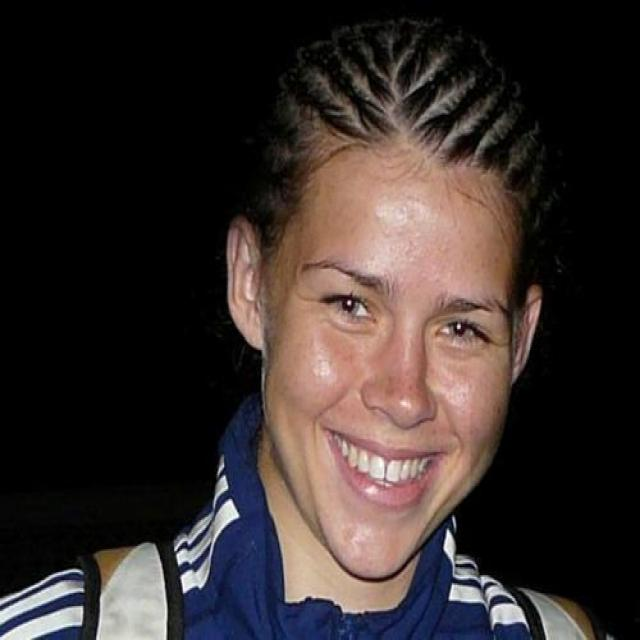0_rostro_limpio: (232, 59, 541, 578)
